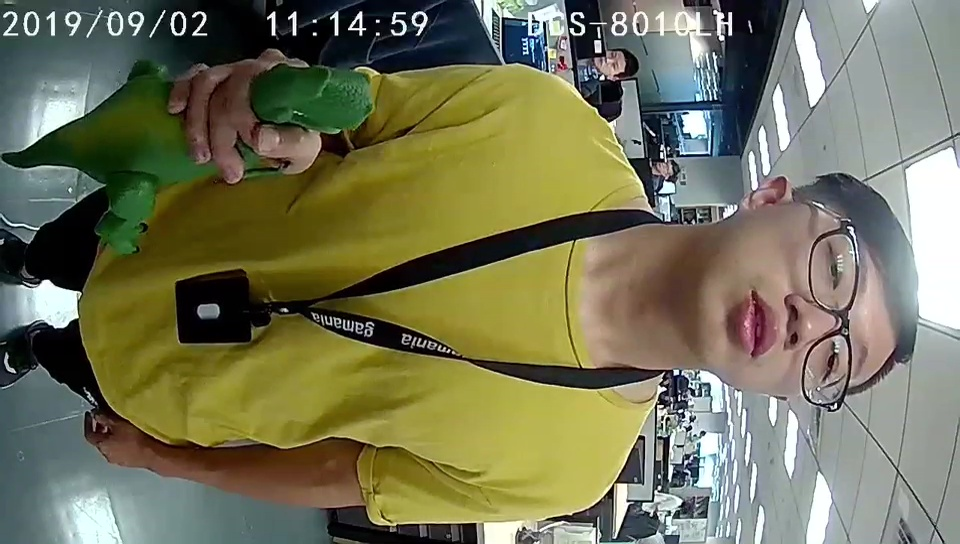rex: (91, 64, 373, 252)
